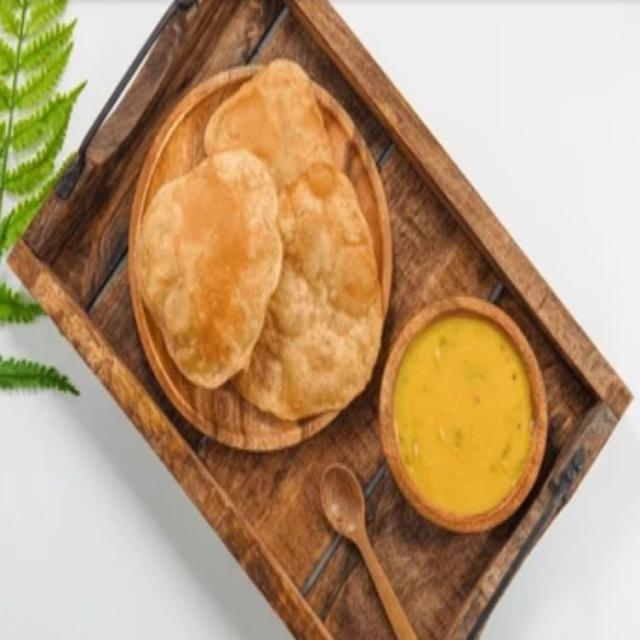KURMA: (391, 315, 536, 519)
POORI: (133, 52, 387, 422)
